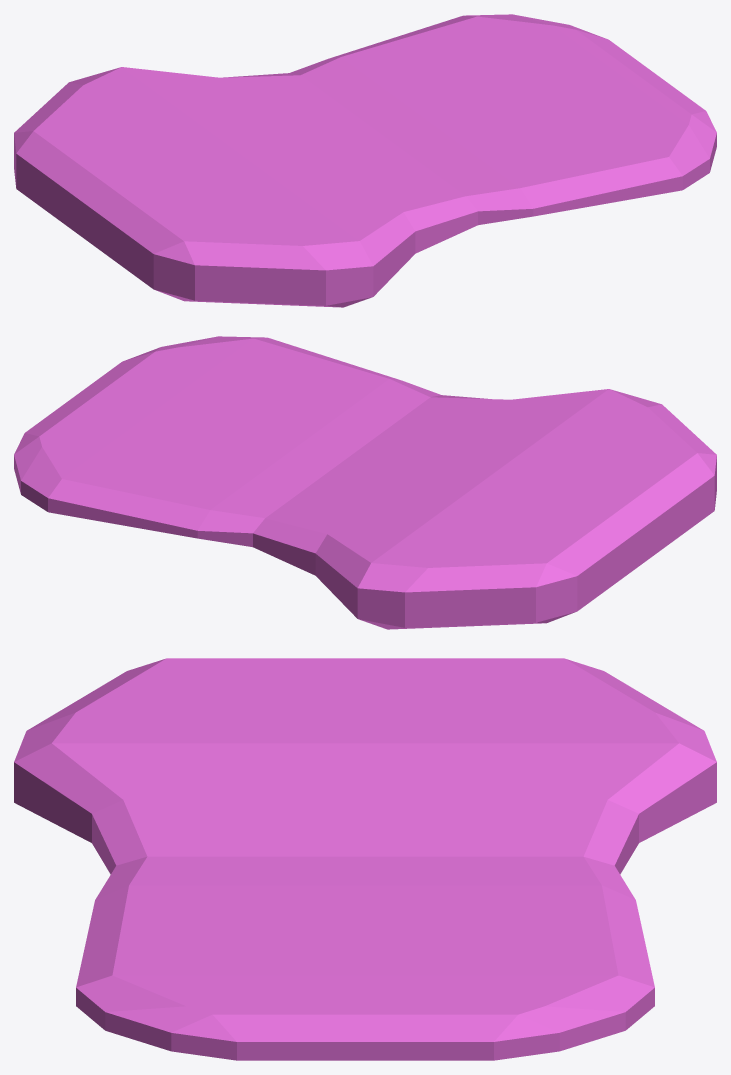
Rendered from Petal.fbx.
3 renders of one model, top to bottom at view 1: azimuth 30°, elevation 25°; view 2: azimuth 150°, elevation 25°; view 3: azimuth 270°, elevation 25°, orthographic. The views are drawn at different scales.
Parts seen in each view (by area): view 1: Cube; view 2: Cube; view 3: Cube.
Part boxes in pixels (left/top/right/bottom): Cube: left=14, top=14, right=716, bottom=307; Cube: left=14, top=336, right=716, bottom=629; Cube: left=14, top=658, right=716, bottom=1060.
Bounding box in the file's own units: 301 × 30.15 × 243.
